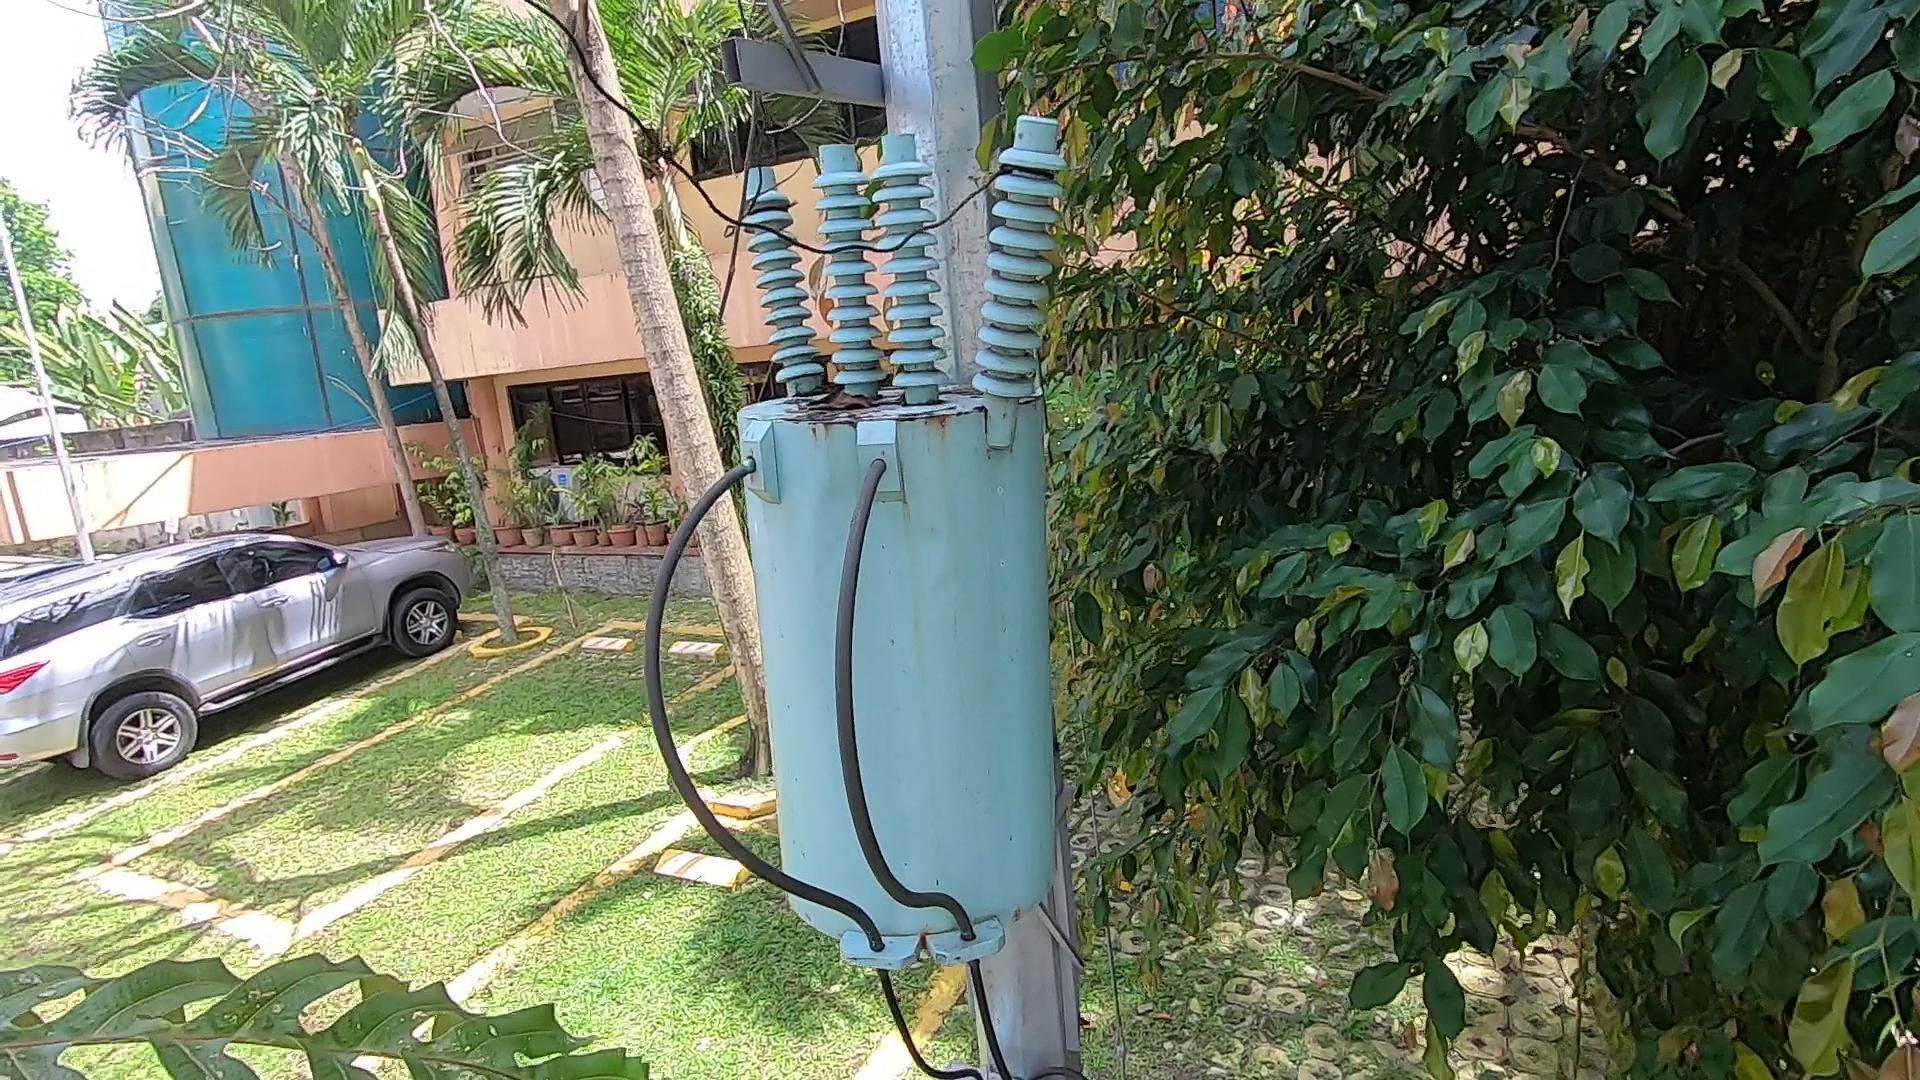leaf: (795, 373, 881, 419)
tree branch: (676, 11, 837, 335)
